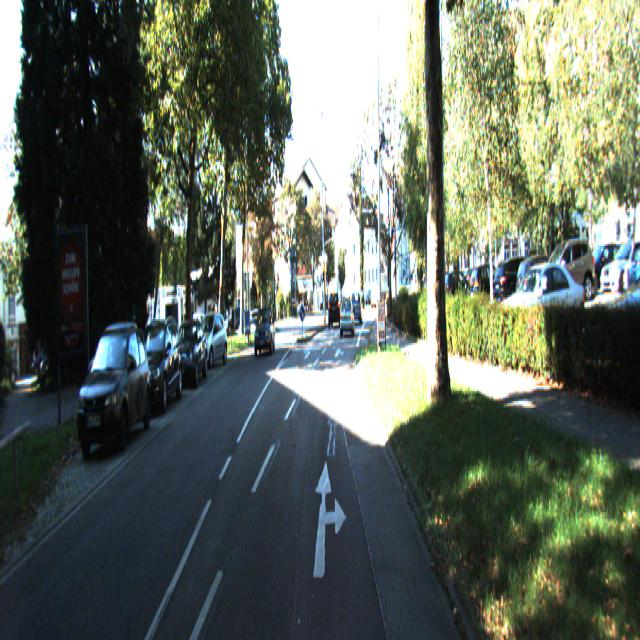Car: (75, 324, 151, 464), (124, 318, 184, 419), (170, 318, 208, 388), (191, 313, 228, 371), (254, 308, 275, 356), (340, 299, 354, 338)
